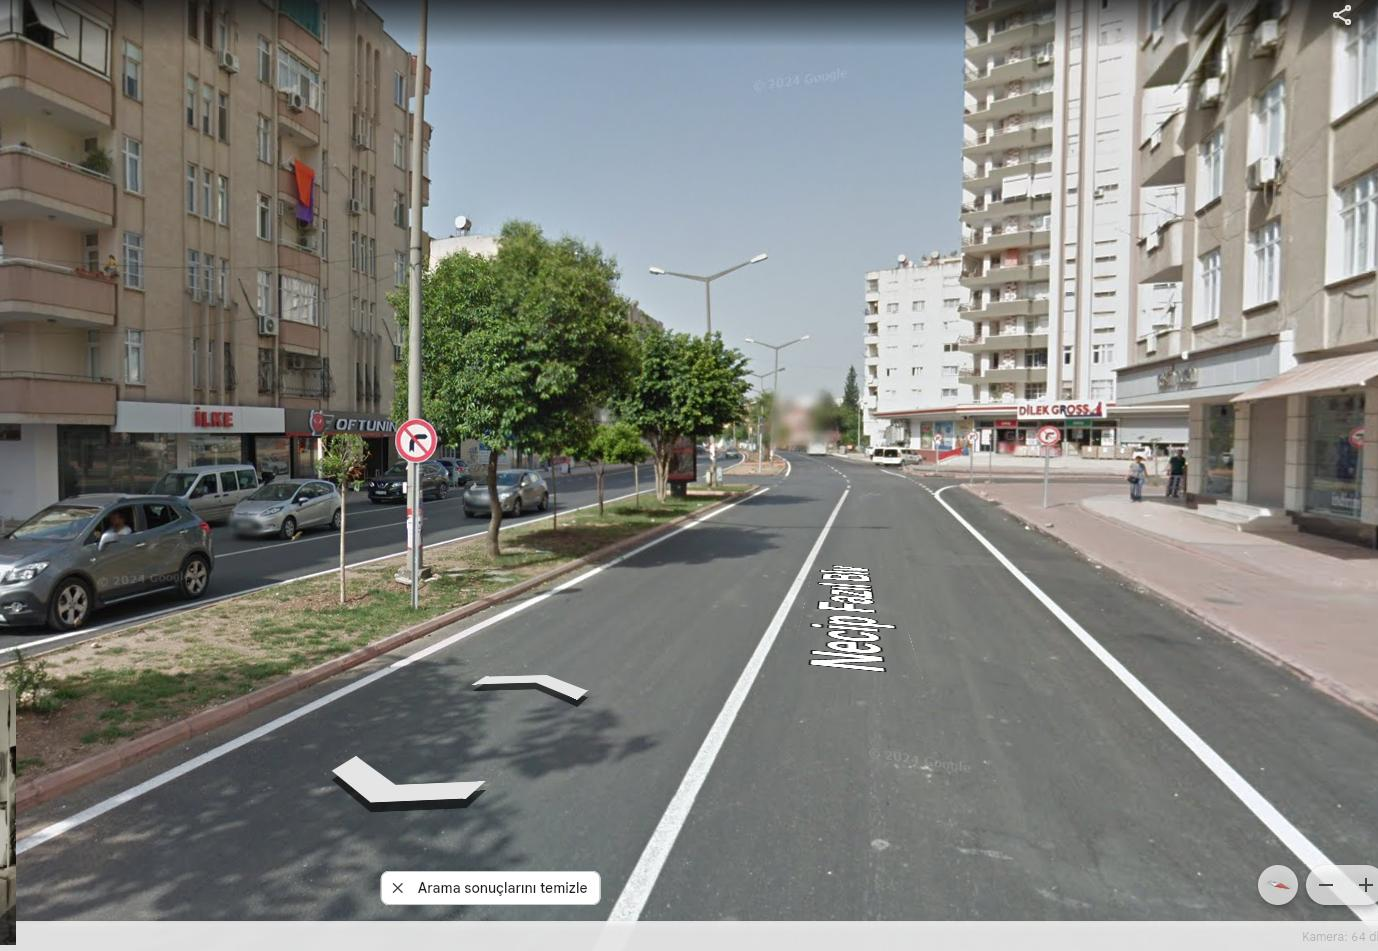rightturnsareforbidden: (401, 421, 436, 461), (1040, 423, 1060, 444)
